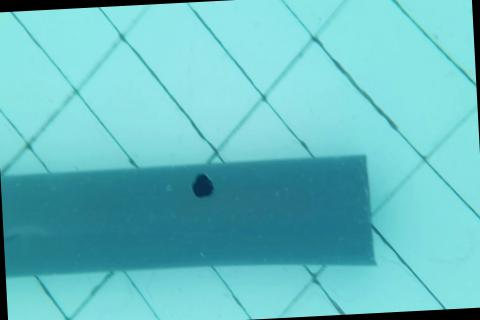kebocoran: (191, 169, 216, 200)
keretakan: (3, 231, 22, 276)
